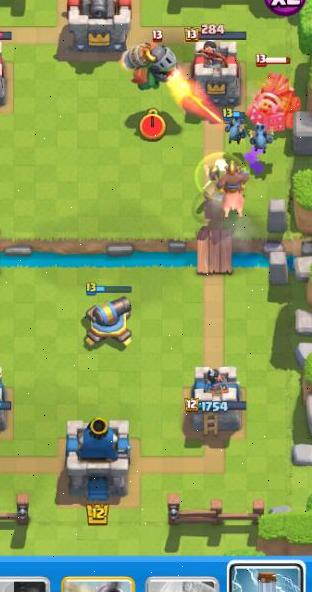enemy_inferno_dragon: (117, 28, 181, 97)
enemy_sparky: (249, 49, 304, 136)
player_cannon: (72, 278, 144, 357)
player_healer: (194, 151, 244, 200)
player_hog_rider: (208, 159, 253, 220)
player_minions: (221, 107, 251, 142), (246, 121, 276, 154)
